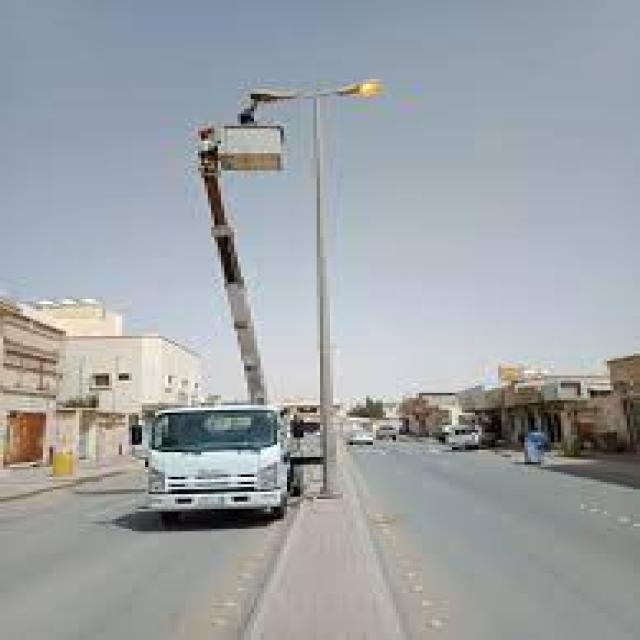Street Light: (248, 77, 380, 494)
